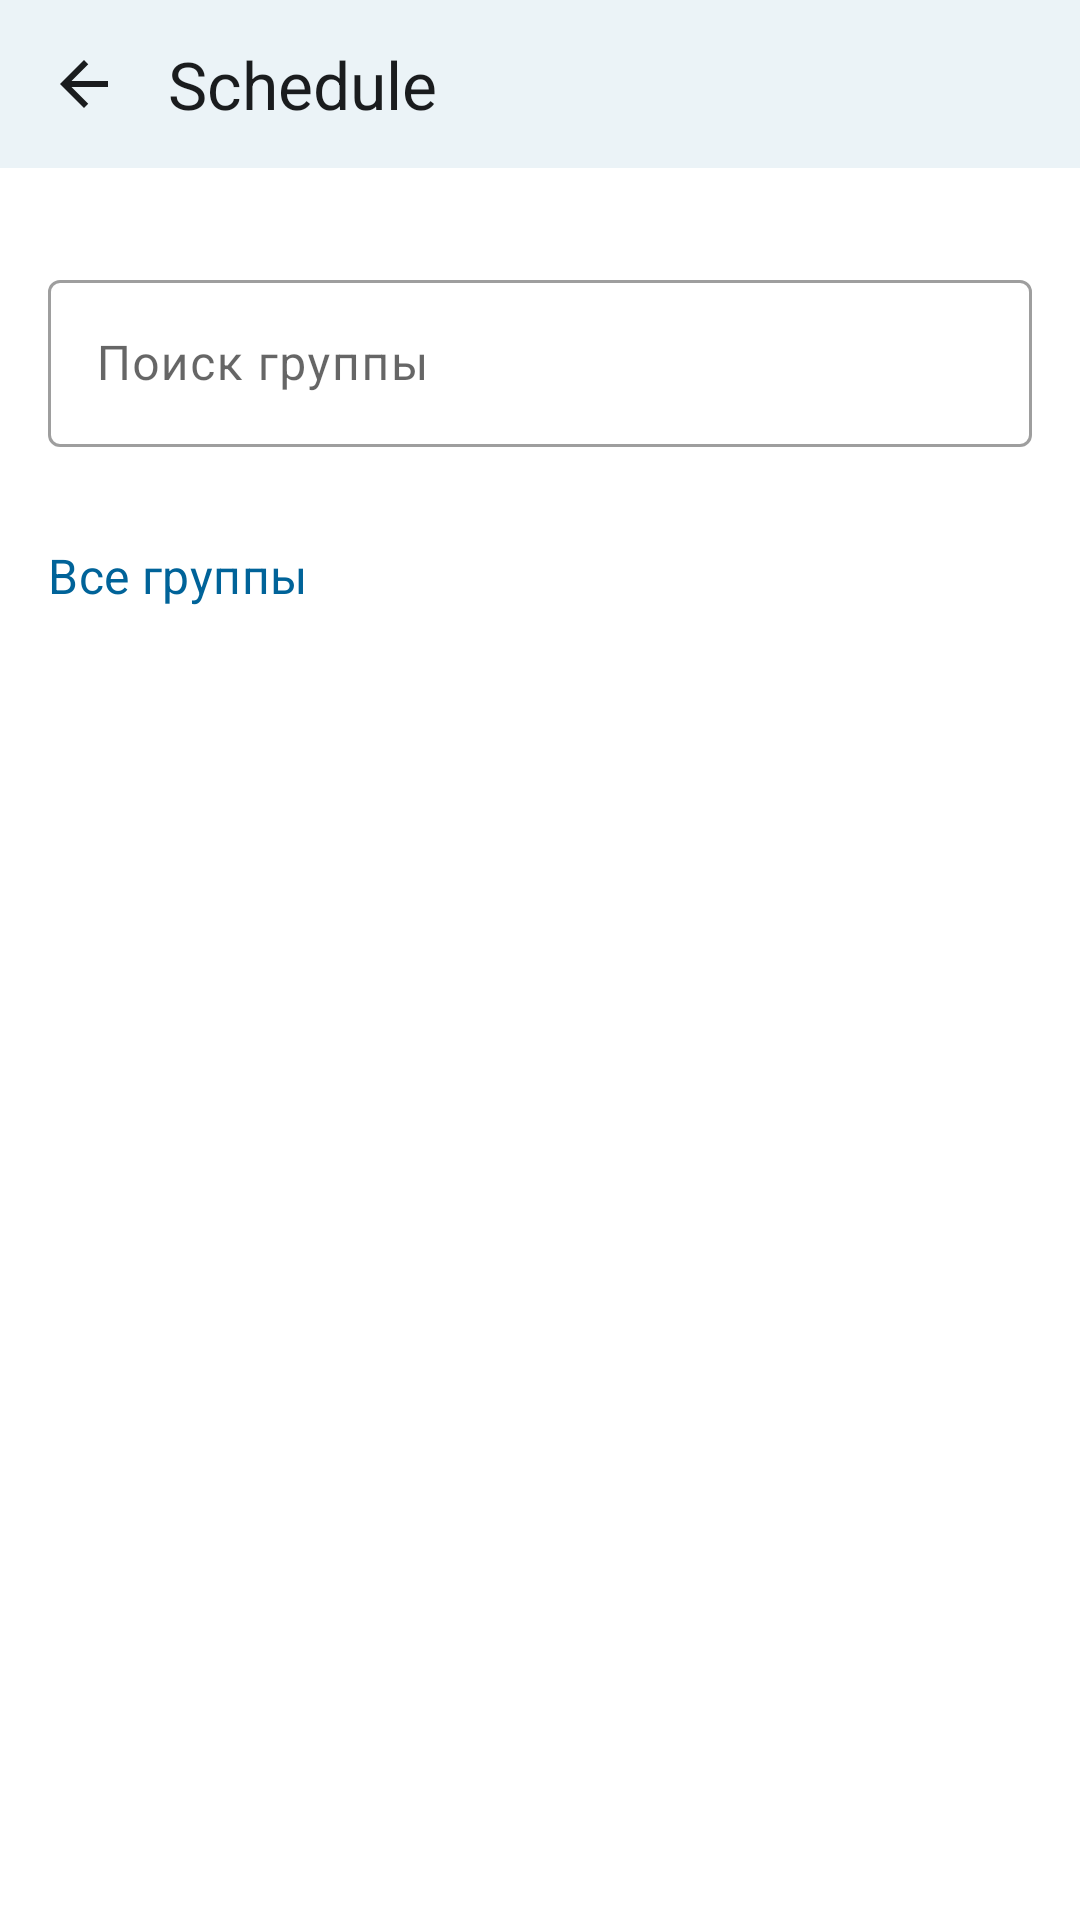

Icon click points for this 1080 × 1920 phone screenshot, format [x,y]:
go back arrow: [84,84]
